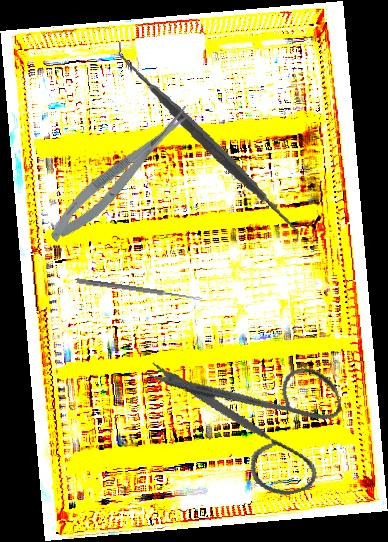Iris Scissors: (142, 318, 361, 523)
Micro Scissor: (41, 100, 202, 249)
Spatula Surgical: (101, 41, 315, 243)
Surgical Spoon: (76, 278, 203, 302)
